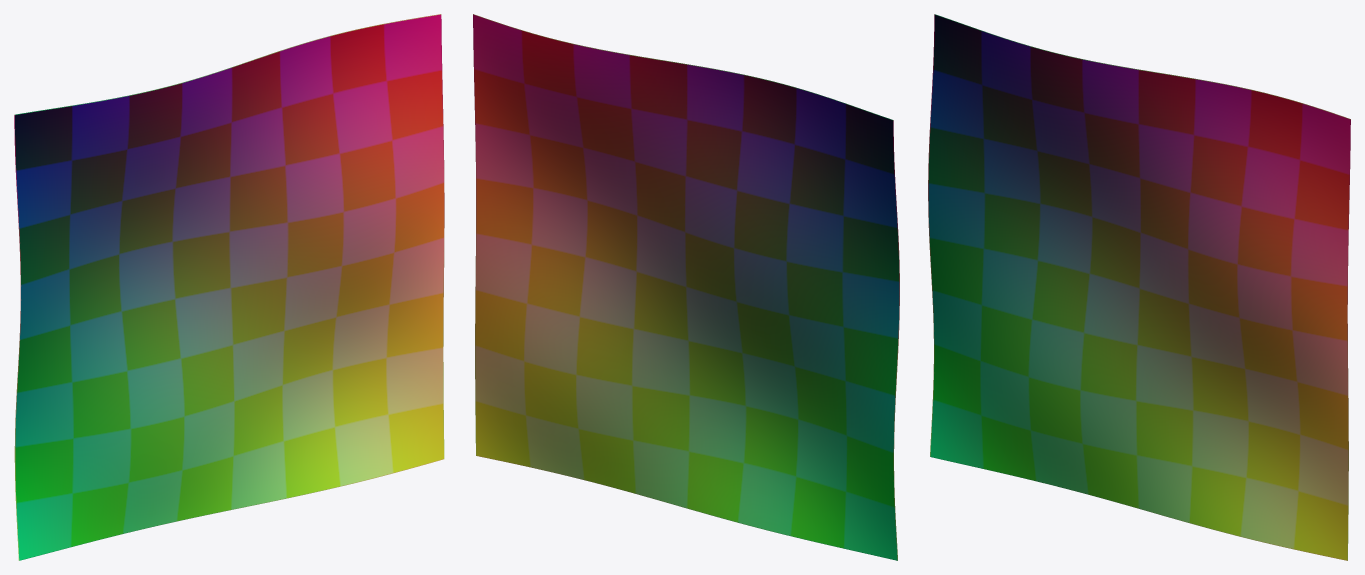
The model's file is Tile_+018_+013.obj.
3 views of the same model, side by side, from view 1: azimuth 30°, elevation 25°; view 2: azimuth 150°, elevation 25°; view 3: azimuth 330°, elevation 25° (orthographic).
Size of the model in its own units: 100 by 100 by 5.74.
